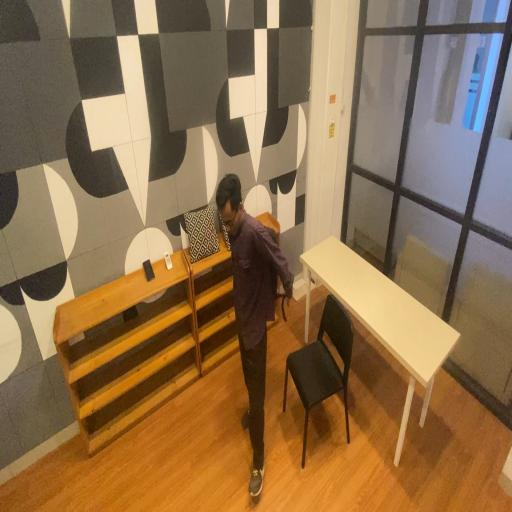hp: (143, 256, 158, 284)
kursi: (280, 285, 357, 476)
lemari: (52, 244, 202, 454)
meja: (295, 227, 463, 491)
remote AC: (184, 206, 220, 264), (162, 249, 176, 275)
